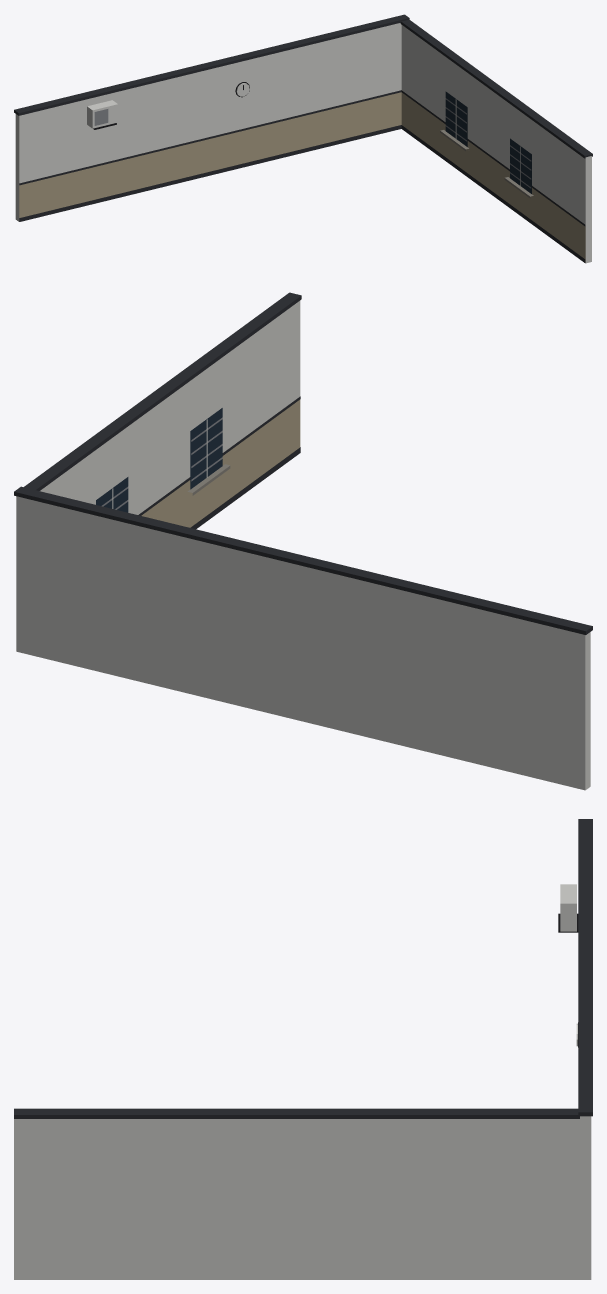
File: building_room_test.5a929913ea89.glb
3 renders of one model, top to bottom at view 1: azimuth 30°, elevation 25°; view 2: azimuth 150°, elevation 25°; view 3: azimuth 270°, elevation 25°, orthographic. The views are drawn at different scales.
Parts seen in each view (by area): view 1: body; view 2: body; view 3: body.
Part boxes in pixels (x1,y1,x2,y2): body: (14, 14, 592, 263); body: (14, 292, 592, 790); body: (14, 819, 592, 1279).
Size of the model in its own units: 12.26 by 3.28 by 10.23.
